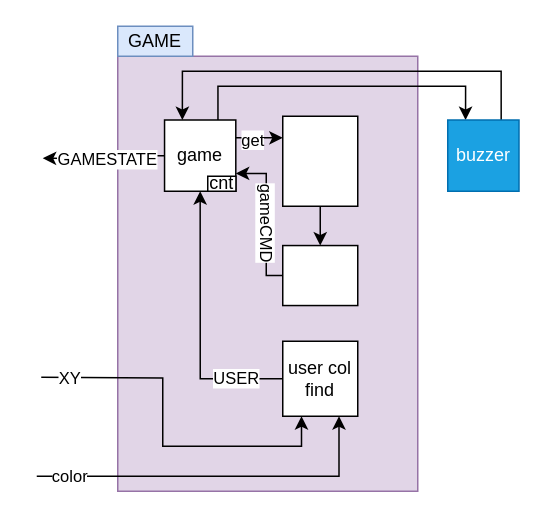
Some shapes in this 546 by 518 pixel diagram are drawn without their labels. Each missing label, with the centre of its shape:
FLAG CMD: point (319, 275)
RAND: point (319, 160)
